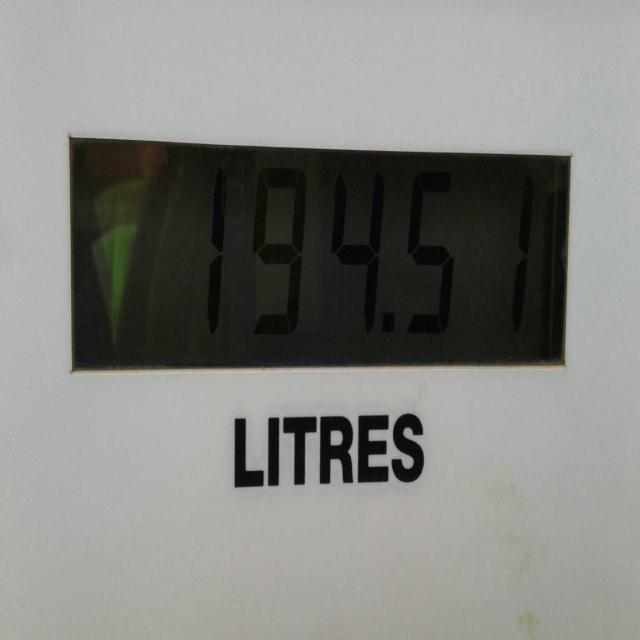.: (384, 312, 396, 336)
1: (516, 176, 532, 336), (210, 173, 222, 342)
4: (331, 171, 379, 330)
5: (410, 171, 454, 338)
9: (253, 168, 303, 342)
